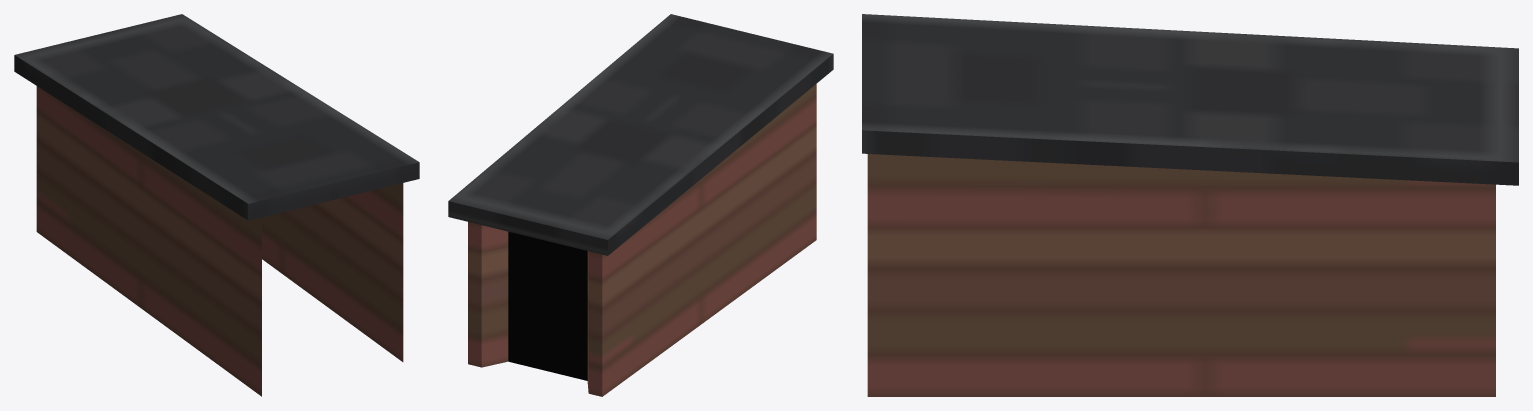
File: roof_window_v3a002.fbx
3 renders of one model, left to right at view 1: azimuth 30°, elevation 25°; view 2: azimuth 150°, elevation 25°; view 3: azimuth 270°, elevation 25°, orthographic. The views are drawn at different scales.
Visible parts, largest first — view 1: roof_window_v3a002; view 2: roof_window_v3a002; view 3: roof_window_v3a002.
Part boxes in pixels (box(x1,y1,x2,y2)): roof_window_v3a002: box(14, 14, 419, 396); roof_window_v3a002: box(448, 14, 833, 396); roof_window_v3a002: box(862, 14, 1518, 396).
Bounding box in the file's own units: 148 × 164 × 354.
